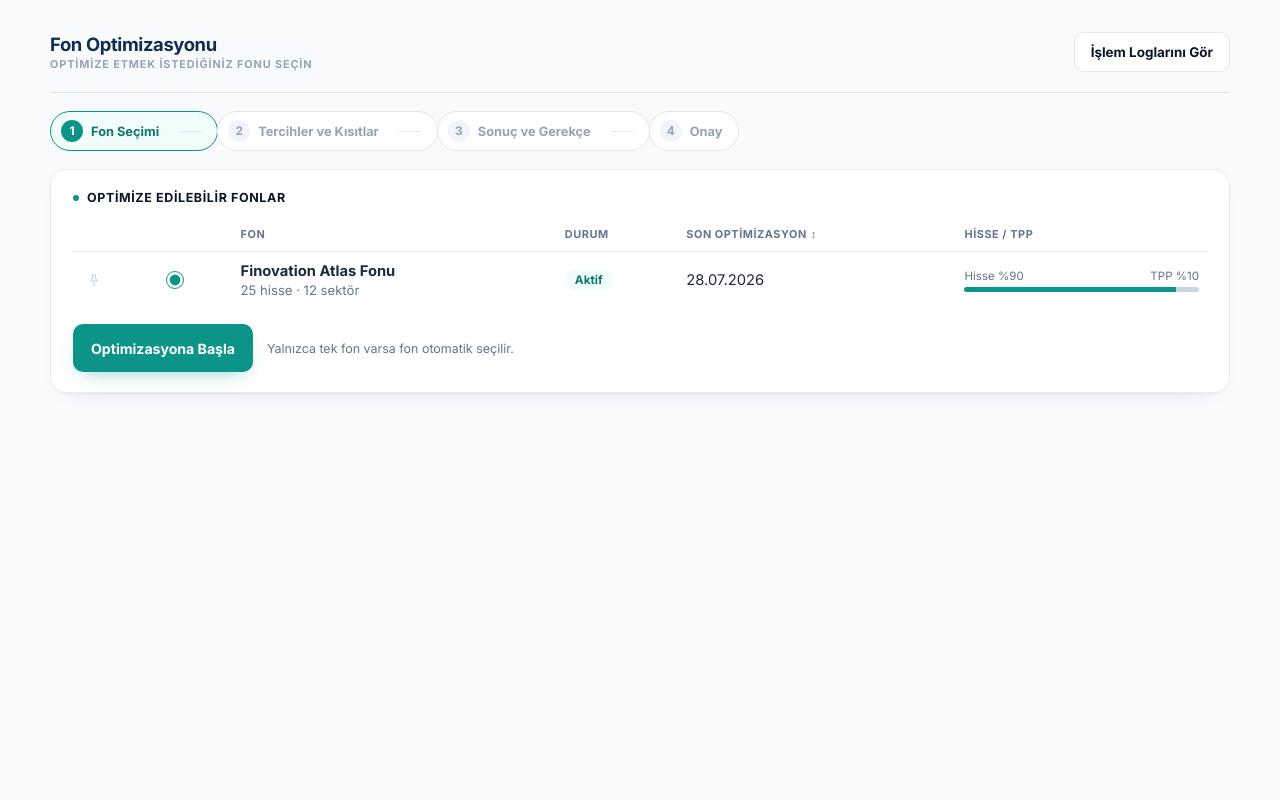
Test case: OptimizationFormPage › Varsayılana Dön başlangıçta pasif, kısıt değiştirilince aktifleşip varsayılana döner
This screenshot has width=1280, height=800.
Click the button "Optimizasyona Başla" at (163, 348), box [73, 324, 253, 372]
(page scrolled)
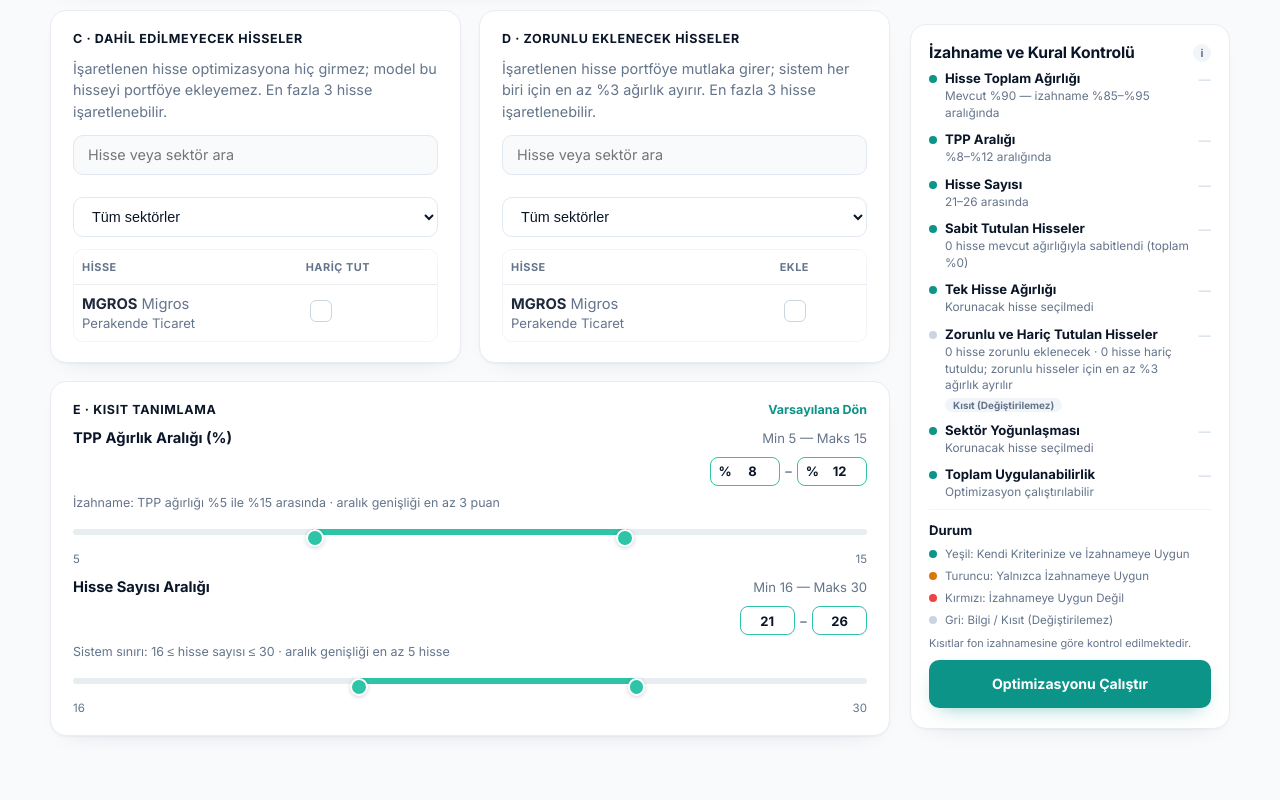
Expected: the button "Optimizasyonu Çalıştır" is shown, [929, 660, 1211, 708]
Expected: the button "Varsayılana Dön" is disabled, [768, 402, 867, 416]
Set the slider named "TPP Ağırlık Aralığı (%) Minimum kaydırıcı" to "9" at (392, 532), box [73, 521, 867, 543]
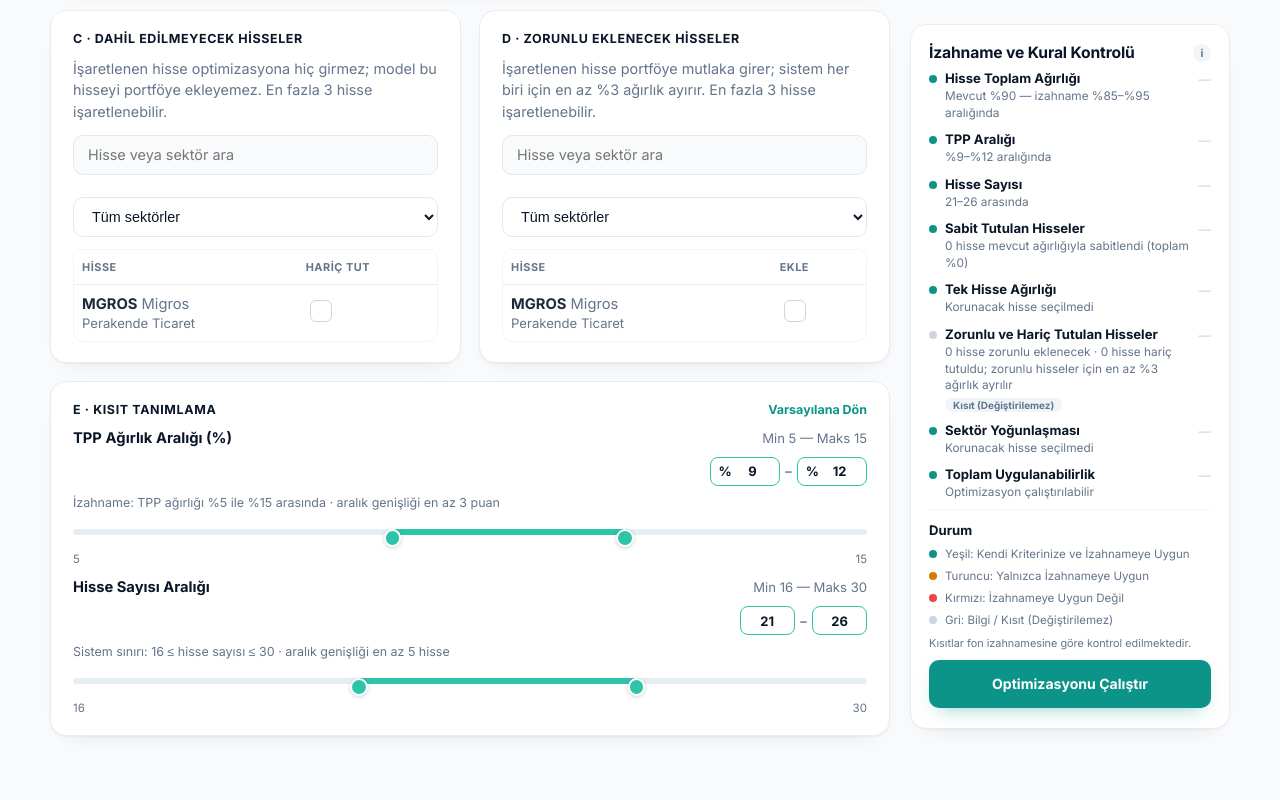
Expected: the field named "TPP Ağırlık Aralığı (%) Minimum" holds "9", [733, 462, 772, 480]
Click the button "Varsayılana Dön" at (818, 409), box [768, 402, 867, 416]
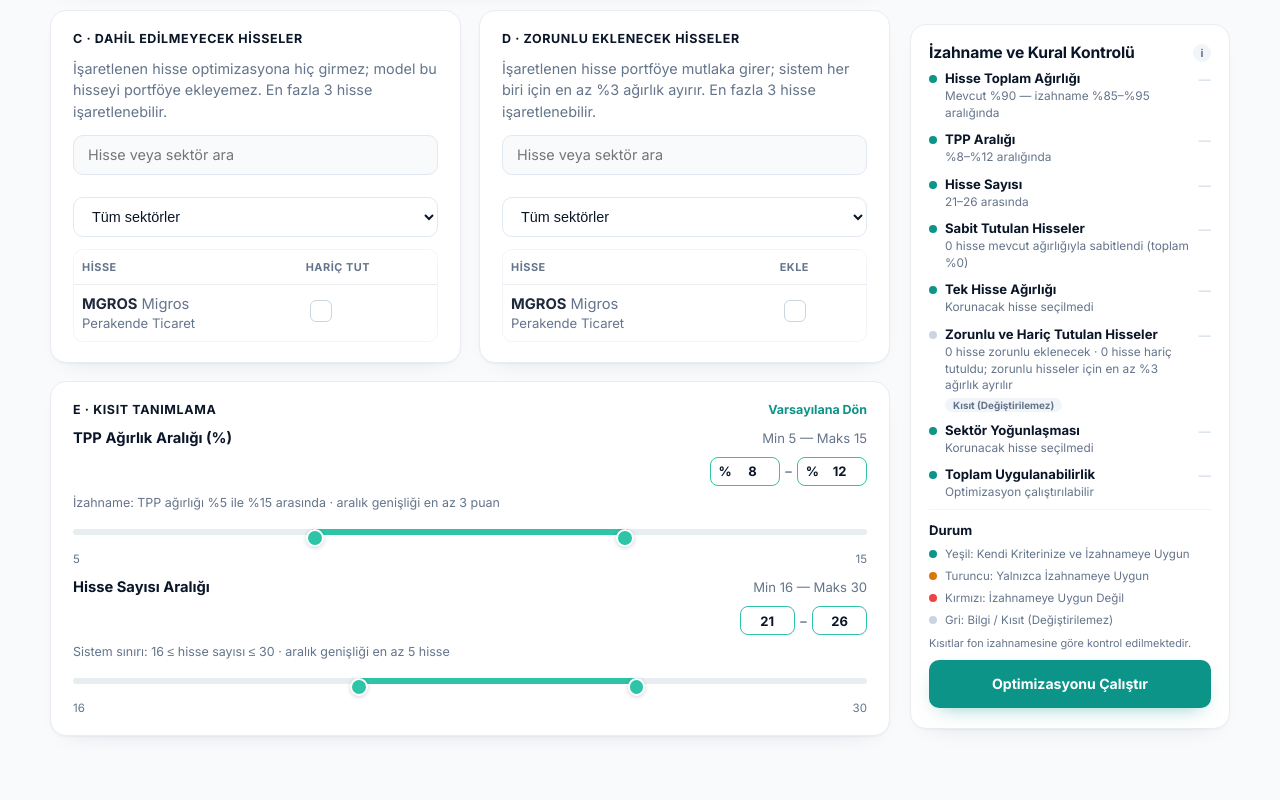
Expected: the field named "TPP Ağırlık Aralığı (%) Minimum" holds "8", [733, 462, 772, 480]
